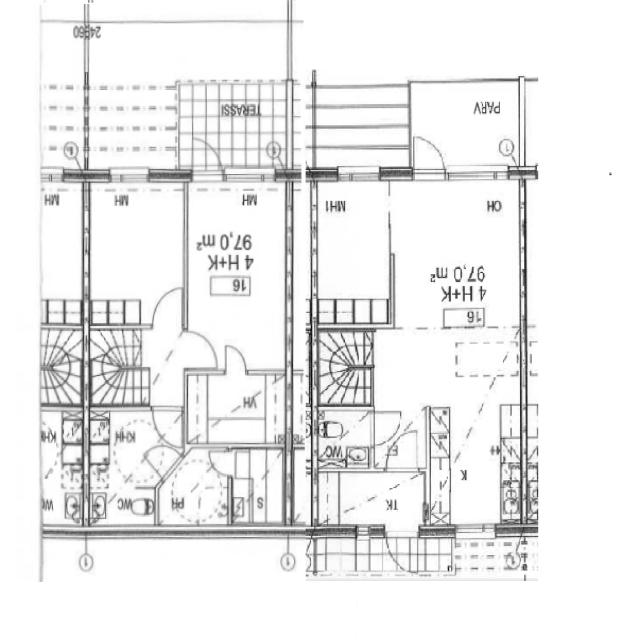door: (383, 424, 423, 476), (187, 137, 227, 187), (180, 324, 220, 372), (368, 405, 406, 455), (410, 132, 448, 180), (150, 283, 187, 331), (383, 523, 418, 572), (149, 401, 183, 446), (220, 338, 251, 378), (206, 444, 237, 477)
window: (280, 1, 300, 91), (445, 162, 515, 185), (222, 163, 279, 188), (332, 162, 390, 185), (450, 518, 501, 540), (102, 165, 154, 186)
zone: (389, 174, 528, 330), (185, 176, 290, 372), (426, 332, 524, 530), (85, 176, 188, 326), (302, 174, 394, 328), (86, 404, 176, 528), (179, 372, 291, 451), (315, 464, 429, 532), (160, 444, 233, 528), (231, 445, 286, 527), (313, 404, 372, 468)
